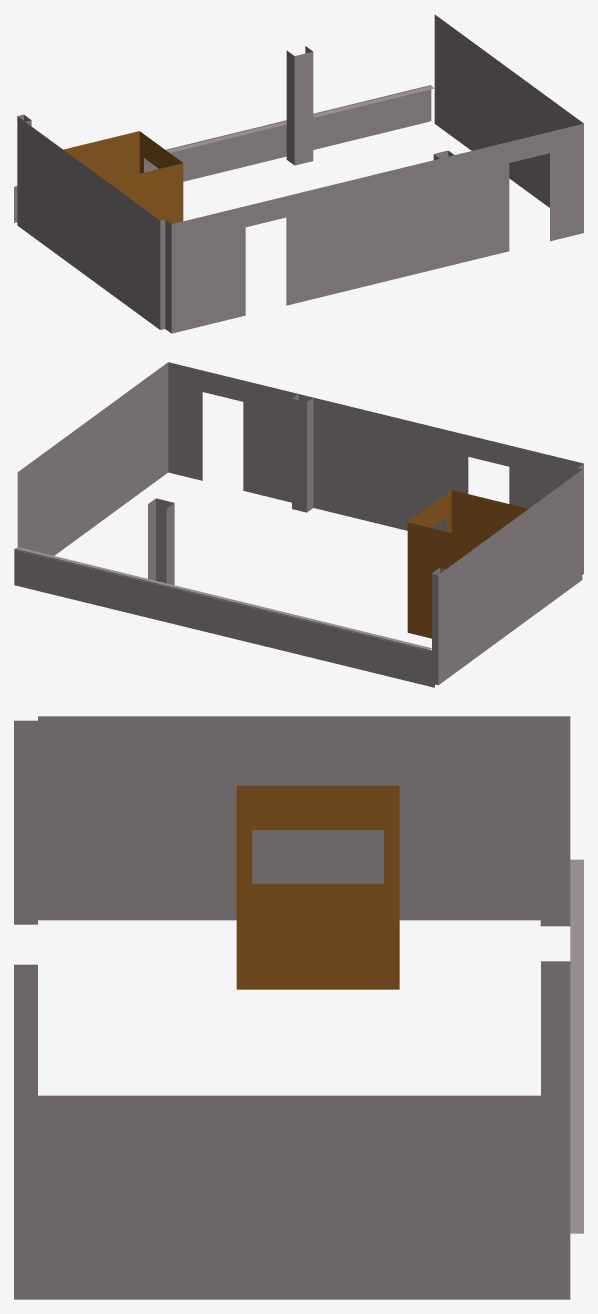
The model's file is conference2.obj.
3 renders of one model, top to bottom at view 1: azimuth 30°, elevation 25°; view 2: azimuth 150°, elevation 25°; view 3: azimuth 270°, elevation 25°, orthographic. The views are drawn at different scales.
Parts seen in each view (by area): view 1: mesh0, mesh1; view 2: mesh0, mesh1; view 3: mesh0, mesh1.
Part boxes in pixels (<box>): mesh0: <box>14,14,583,333</box>; mesh1: <box>63,131,183,223</box>; mesh0: <box>14,362,583,687</box>; mesh1: <box>407,490,528,638</box>; mesh0: <box>14,716,583,1299</box>; mesh1: <box>236,785,399,989</box>.
Size of the model in its own units: 2600 by 652 by 1651.
